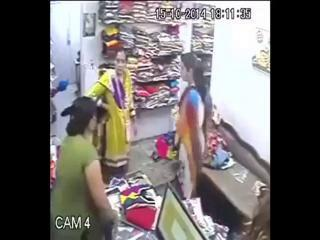Normal: (50, 96, 119, 240), (83, 50, 137, 179)
